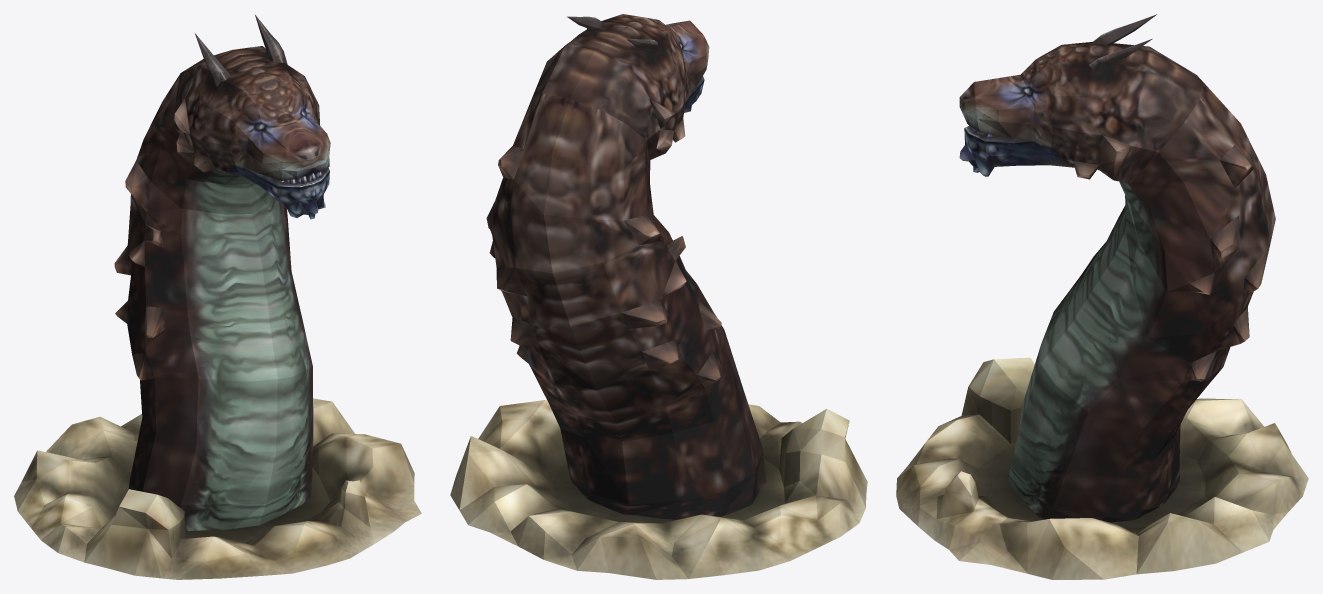
File: Trench Wurm.fbx
The picture shows the model from 3 angles, left to right: view 1: azimuth 30°, elevation 25°; view 2: azimuth 150°, elevation 25°; view 3: azimuth 270°, elevation 25°; orthographic projection. The views are drawn at different scales.
Visible parts, largest first — view 1: Body, Ground; view 2: Body, Ground; view 3: Body, Ground.
Boxes of the visible parts, bbox=[...] form: Body: bbox=[114, 15, 330, 531]; Ground: bbox=[14, 398, 421, 579]; Body: bbox=[486, 14, 765, 519]; Ground: bbox=[450, 400, 867, 579]; Body: bbox=[959, 14, 1275, 522]; Ground: bbox=[896, 357, 1308, 579].
Size of the model in its own units: 1118 by 1387 by 1069.
Materials: 2 (2 with a texture image).
